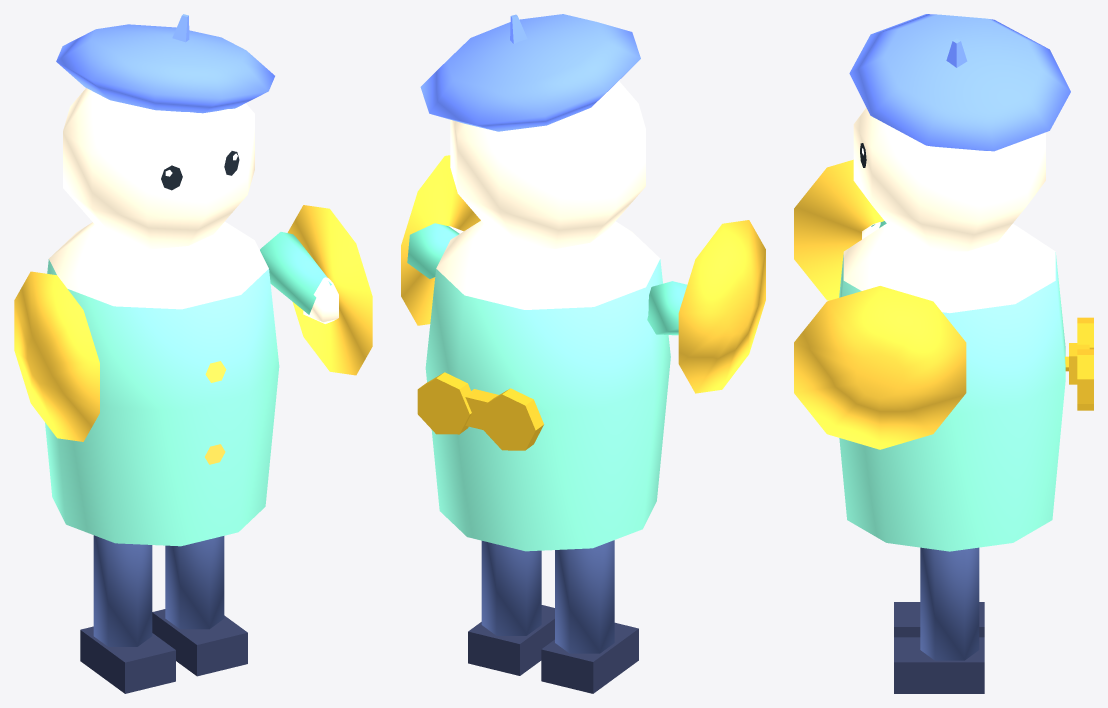
The model's file is band-cymbal.glb.
The picture shows the model from 3 angles, left to right: view 1: azimuth 30°, elevation 25°; view 2: azimuth 150°, elevation 25°; view 3: azimuth 270°, elevation 25°; orthographic projection.
Visible parts, largest first — view 1: band-cymbal; view 2: band-cymbal; view 3: band-cymbal.
Boxes of the visible parts, x1,y1,x2,y2 form: band-cymbal: (14,14,372,693); band-cymbal: (401,14,765,693); band-cymbal: (794,14,1093,693).
Size of the model in its own units: 1.03 by 2.02 by 0.8613.
